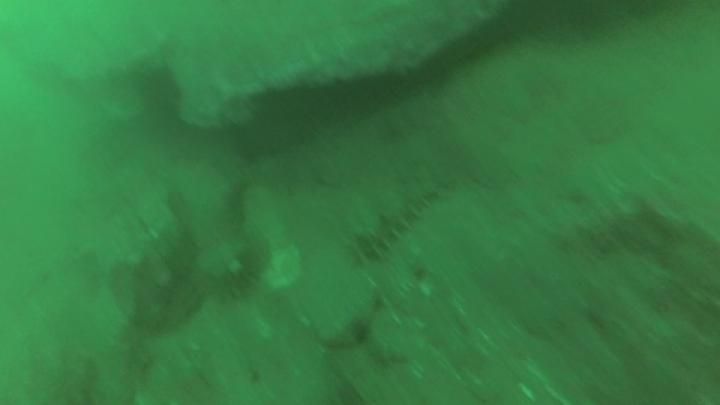holothurian: (343, 173, 455, 263)
